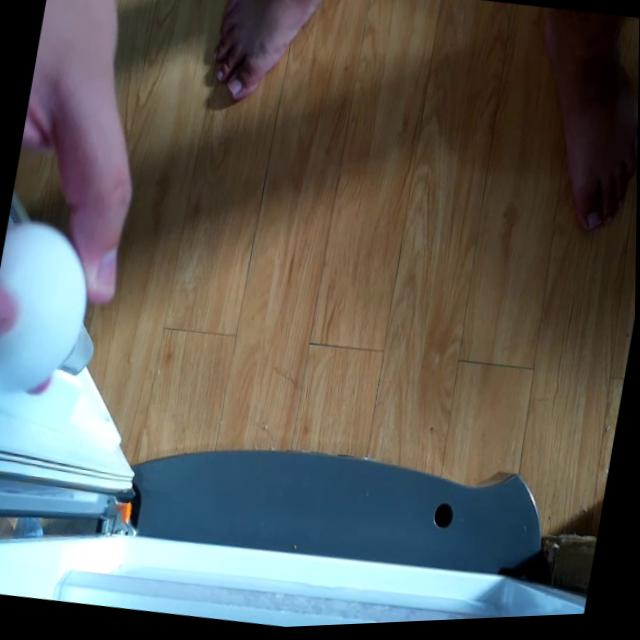egg: (0, 211, 99, 403)
